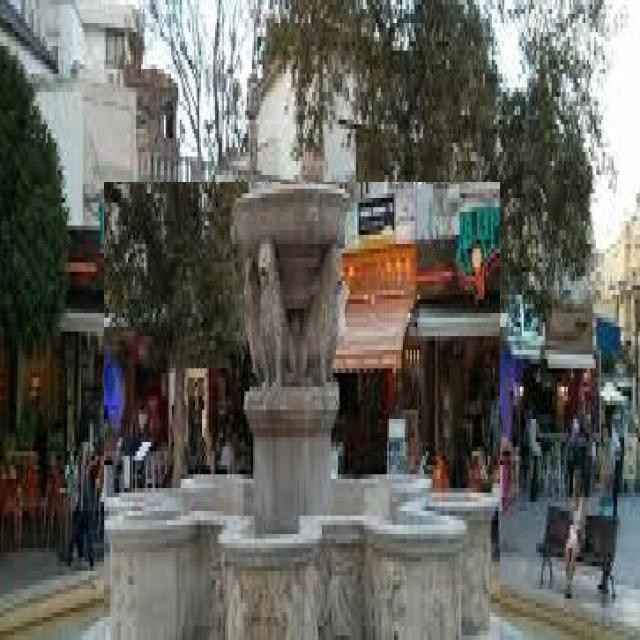Liontaria: (105, 183, 501, 640)
